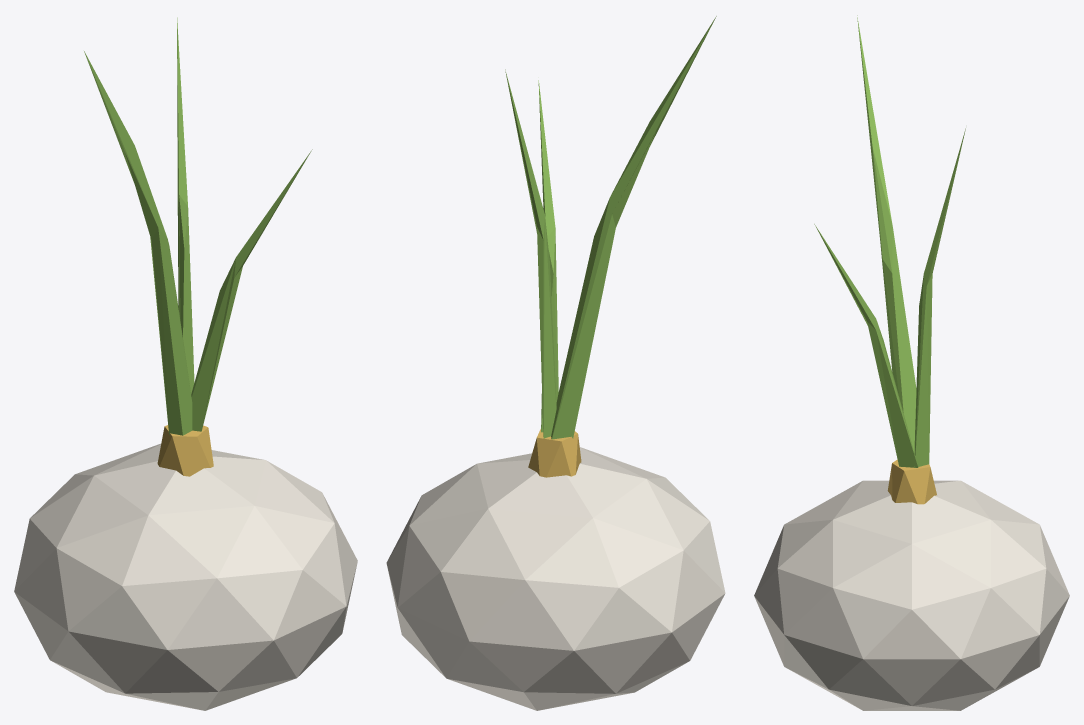
The model's file is Garlic.fbx.
3 renders of one model, left to right at view 1: azimuth 30°, elevation 25°; view 2: azimuth 150°, elevation 25°; view 3: azimuth 270°, elevation 25°, orthographic. The views are drawn at different scales.
Parts seen in each view (by area): view 1: Garlic; view 2: Garlic; view 3: Garlic.
Part boxes in pixels (x1,y1,x2,y2): Garlic: (14, 17, 357, 710); Garlic: (386, 16, 725, 710); Garlic: (754, 15, 1069, 710).
Bounding box in the file's own units: 0.0739 × 0.1732 × 0.0777.
